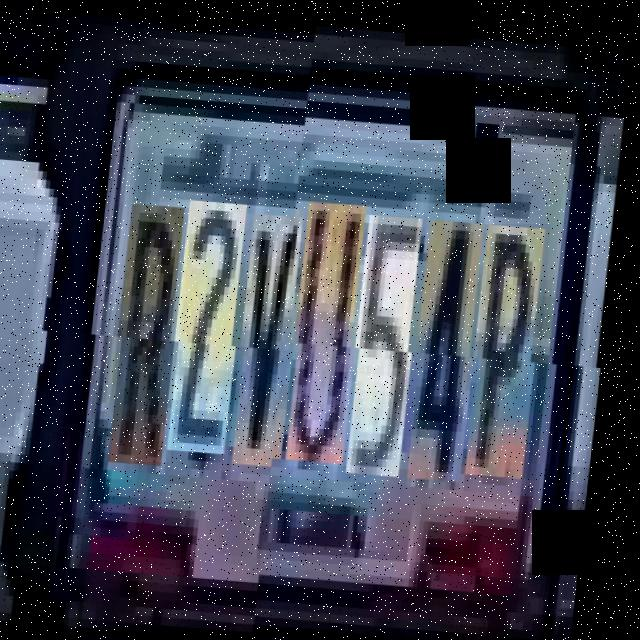2: (177, 196, 257, 450)
4: (417, 220, 494, 482)
5: (355, 216, 432, 478)
P: (475, 224, 555, 478)
R: (118, 202, 195, 462)
U: (295, 204, 375, 466)
V: (243, 209, 313, 462)
